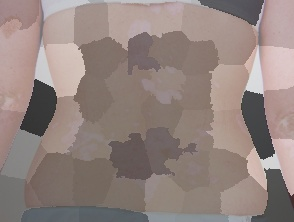vitiligo: (115, 122, 228, 207), (121, 5, 188, 107), (63, 121, 113, 168), (270, 107, 294, 152), (0, 89, 35, 118)
